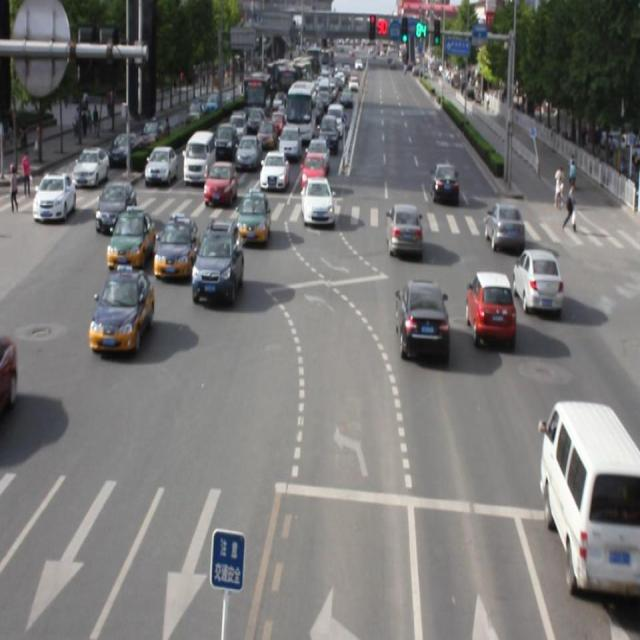car: (89, 264, 153, 354), (394, 279, 448, 360), (192, 218, 242, 305), (464, 271, 513, 345), (512, 247, 561, 311), (154, 215, 199, 282), (106, 208, 153, 270), (387, 202, 422, 259), (486, 204, 526, 252), (237, 192, 271, 245), (300, 176, 334, 228)
truck: (542, 400, 640, 596)
